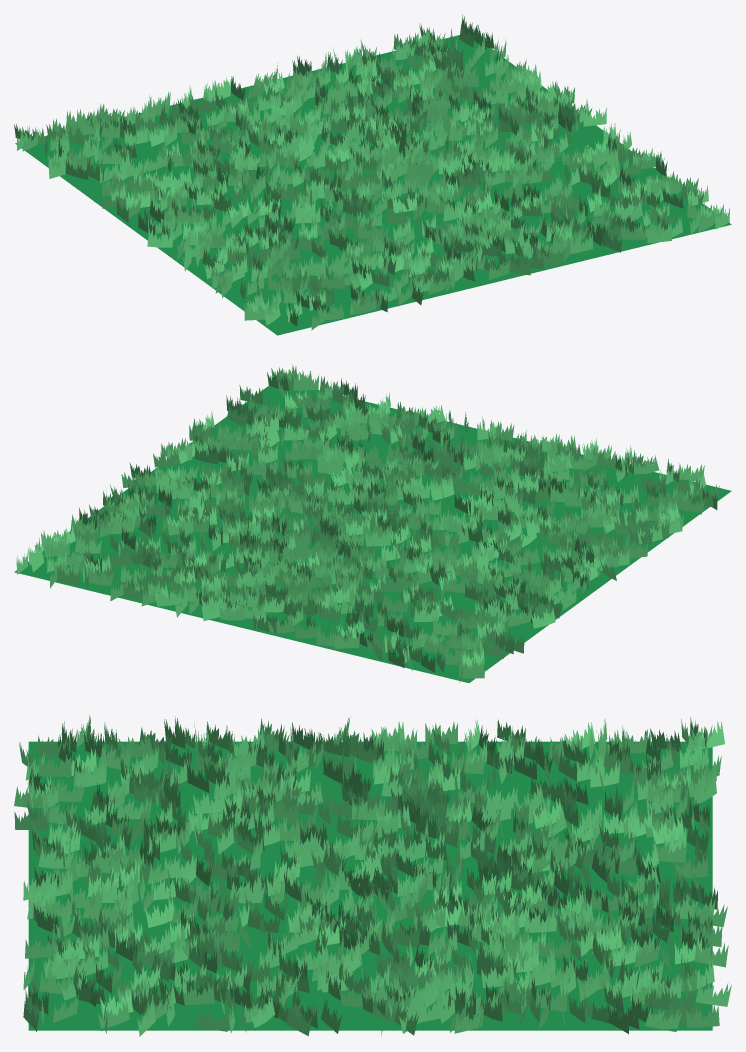
File: Grass_Tile.fbx
The picture shows the model from 3 angles, top to bottom: view 1: azimuth 30°, elevation 25°; view 2: azimuth 150°, elevation 25°; view 3: azimuth 270°, elevation 25°; orthographic projection. The views are drawn at different scales.
Visible parts, largest first — view 1: Grass Tile; view 2: Grass Tile; view 3: Grass Tile, Grass Tile|Grass_Hair|Dupli|4, Grass Tile|Grass_Hair|Dupli|17, Grass Tile|Grass_Hair|Dupli|469, Grass Tile|Grass_Hair|Dupli|37.
Part boxes in pixels (bbox=[...]): Grass Tile: bbox=[15, 34, 731, 335]; Grass Tile: bbox=[14, 386, 731, 682]; Grass Tile: bbox=[28, 741, 712, 1030]; Grass Tile|Grass_Hair|Dupli|4: bbox=[695, 981, 731, 1006]; Grass Tile|Grass_Hair|Dupli|17: bbox=[694, 940, 728, 967]; Grass Tile|Grass_Hair|Dupli|469: bbox=[38, 754, 71, 776]; Grass Tile|Grass_Hair|Dupli|37: bbox=[686, 1004, 719, 1027].
Size of the model in its own units: 4.18 by 0.188 by 4.18.
